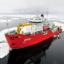fishing boat: (3, 6, 63, 51)
